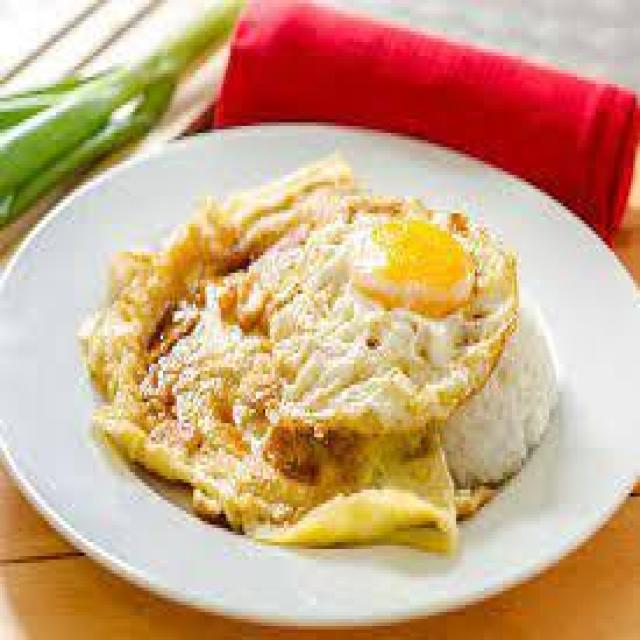omelette: (95, 112, 489, 573), (242, 203, 531, 427)
